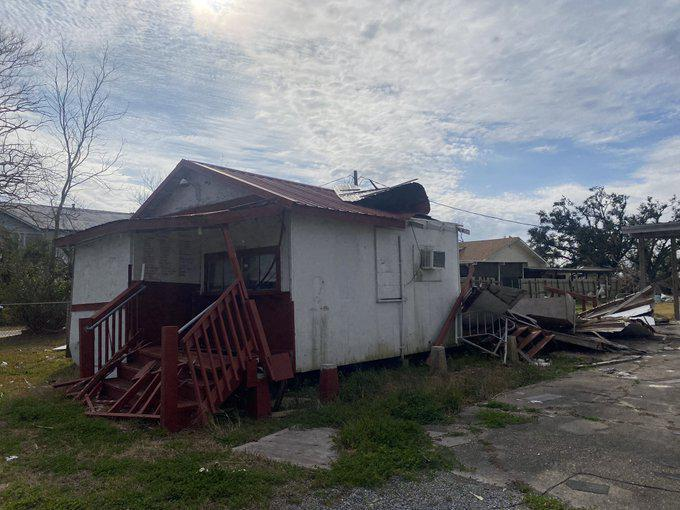major: (31, 144, 656, 448)
